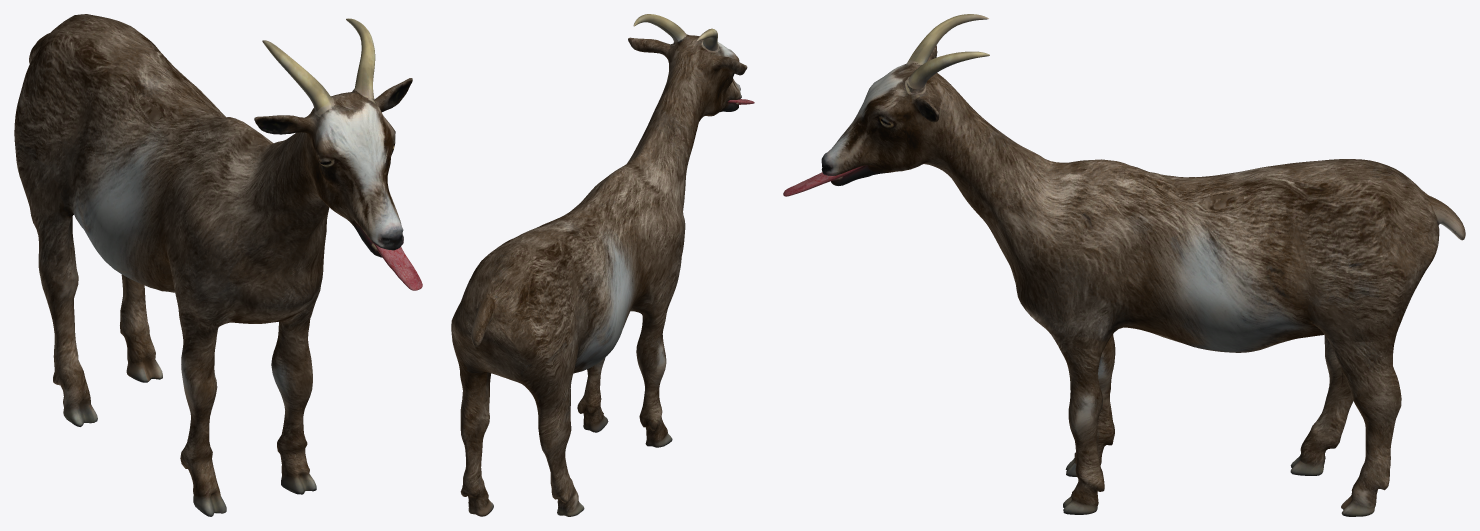
The model's file is goat_sim_brown_goat.glb.
3 views of the same model, side by side, from view 1: azimuth 30°, elevation 25°; view 2: azimuth 150°, elevation 25°; view 3: azimuth 270°, elevation 25° (orthographic). The views are drawn at different scales.
Parts seen in each view (by area): view 1: Object_3; view 2: Object_3; view 3: Object_3.
Boxes of the visible parts, <box> form: Object_3: <box>14,14,422,516</box>; Object_3: <box>451,14,754,516</box>; Object_3: <box>783,14,1465,516</box>.
Size of the model in its own units: 0.6135 by 1.88 by 2.53.
1 material, 1 textured.
